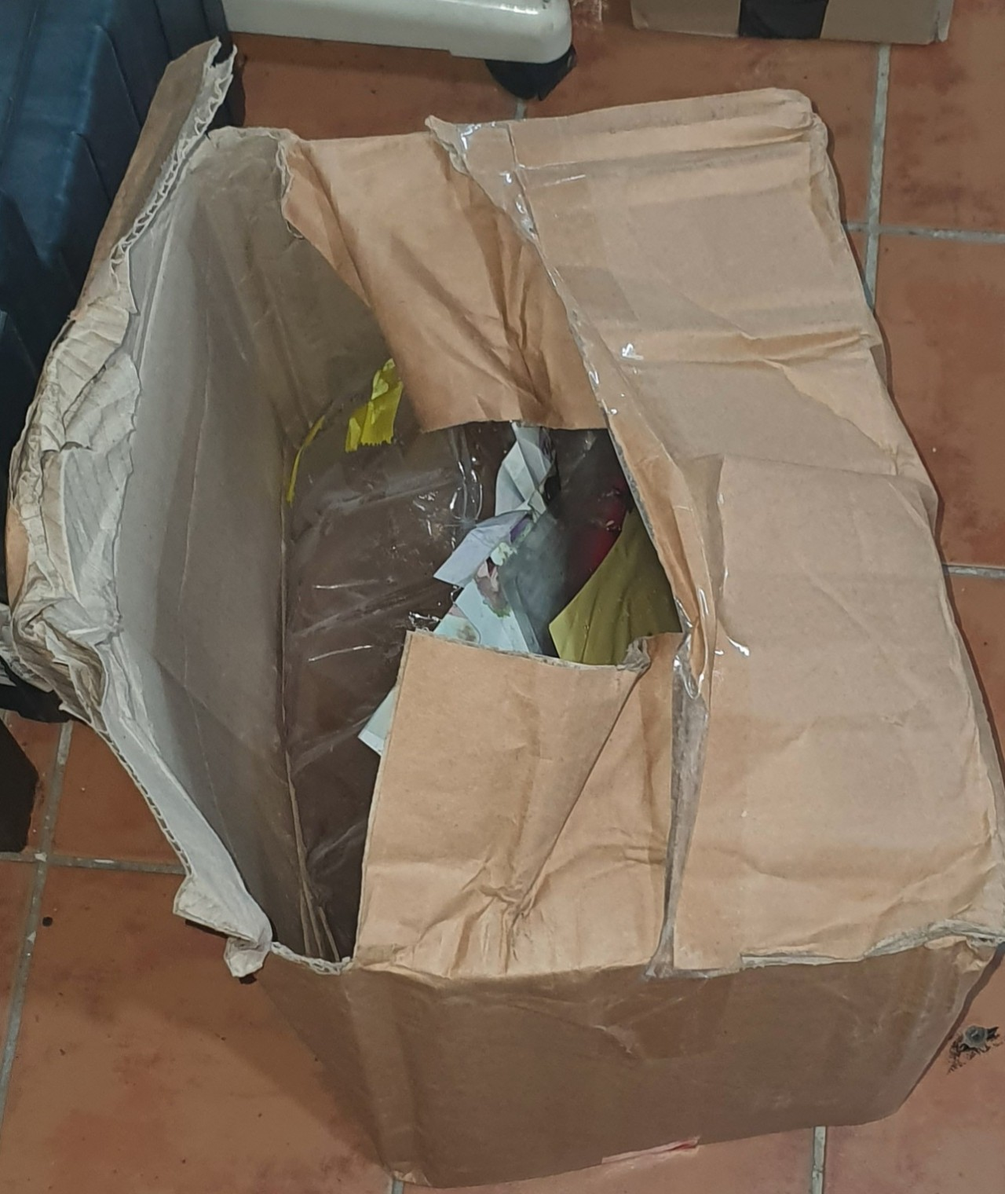damaged package: (0, 58, 694, 983)
